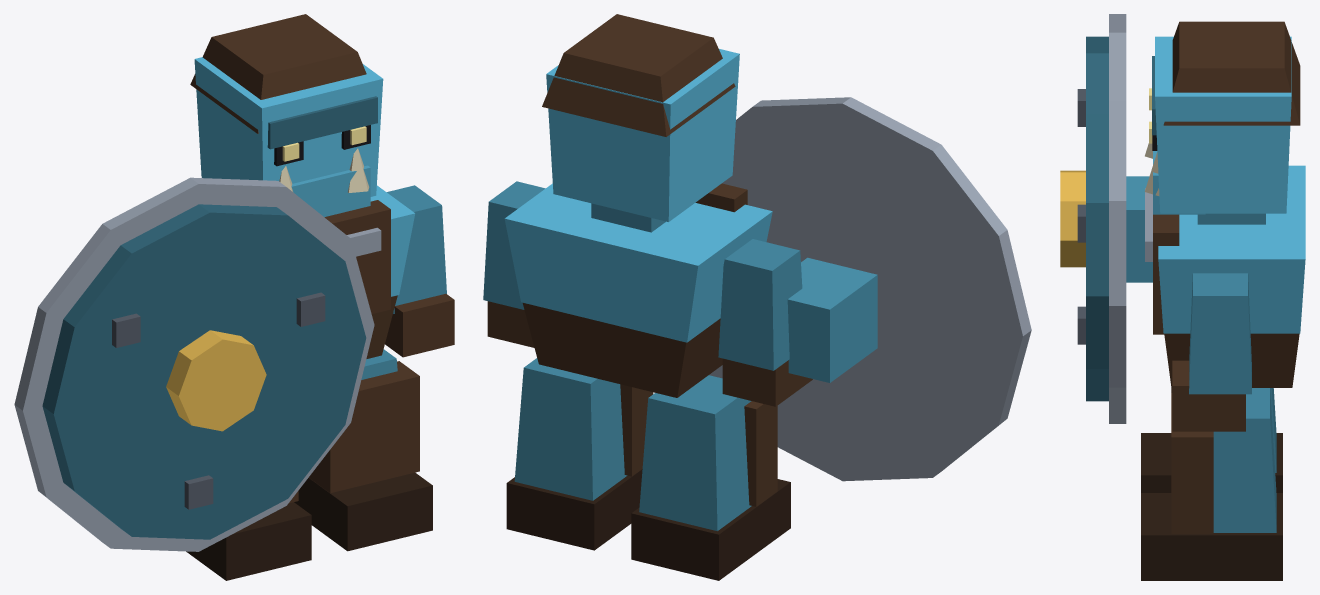
Rendered from enemy_shield.glb.
3 views of the same model, side by side, from view 1: azimuth 30°, elevation 25°; view 2: azimuth 150°, elevation 25°; view 3: azimuth 270°, elevation 25° (orthographic). The views are drawn at different scales.
Parts seen in each view (by area): view 1: enemy_shield; view 2: enemy_shield; view 3: enemy_shield.
Boxes of the visible parts, x1=… form: enemy_shield: x1=14, y1=14, x2=454, y2=580; enemy_shield: x1=483, y1=14, x2=1031, y2=580; enemy_shield: x1=1060, y1=14, x2=1305, y2=580.
Bounding box in the file's own units: 0.9498 × 0.9359 × 0.4288.
